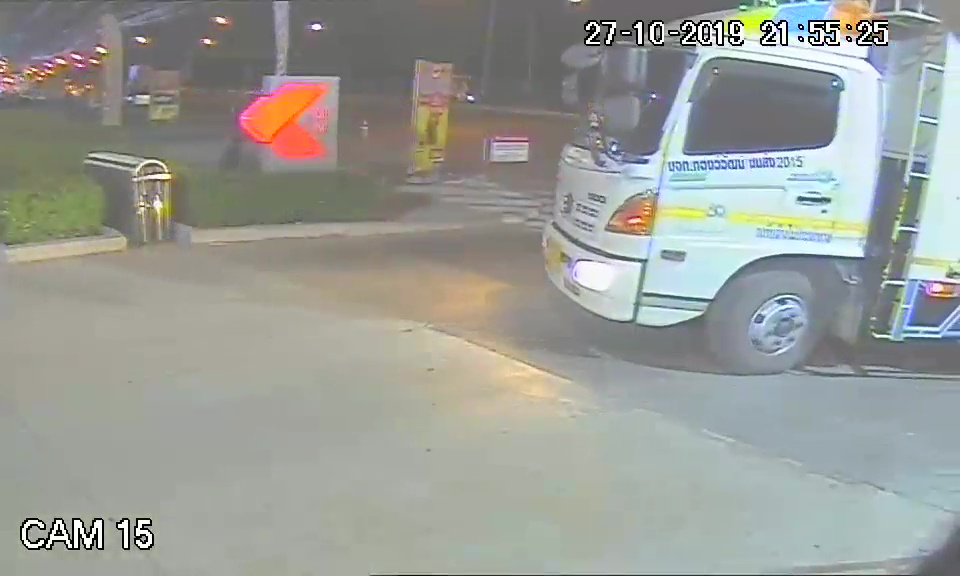truck: (547, 4, 867, 387)
